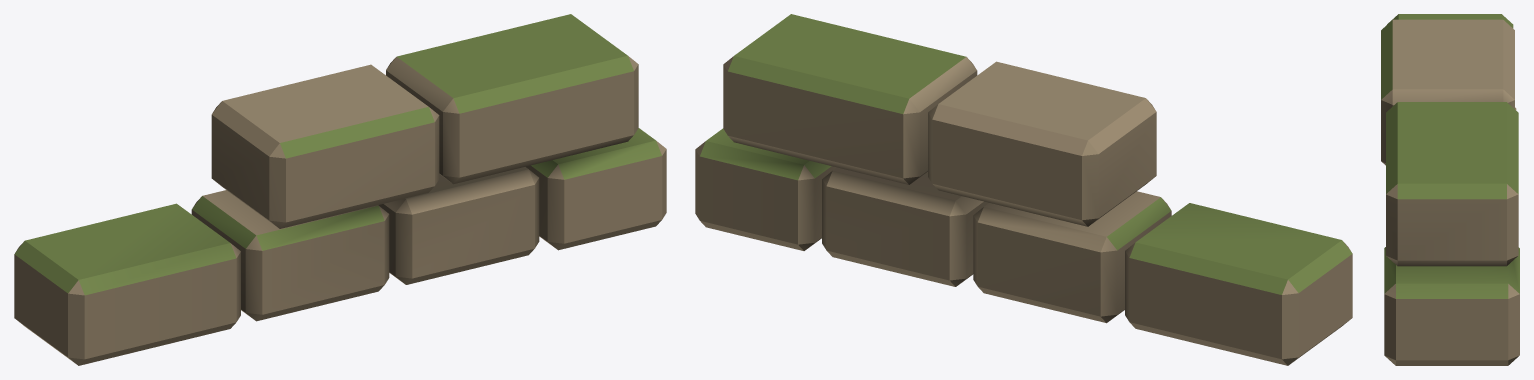
File: RuinWallShort.glb
The picture shows the model from 3 angles, left to right: view 1: azimuth 30°, elevation 25°; view 2: azimuth 150°, elevation 25°; view 3: azimuth 270°, elevation 25°; orthographic projection. The views are drawn at different scales.
Parts seen in each view (by area): view 1: Wall.001; view 2: Wall.001; view 3: Wall.001.
Part boxes in pixels (x1,y1,x2,y2): Wall.001: (14, 14, 666, 365); Wall.001: (695, 14, 1352, 365); Wall.001: (1381, 14, 1519, 365).
Bounding box in the file's own units: 7.92 × 2.24 × 1.66.
